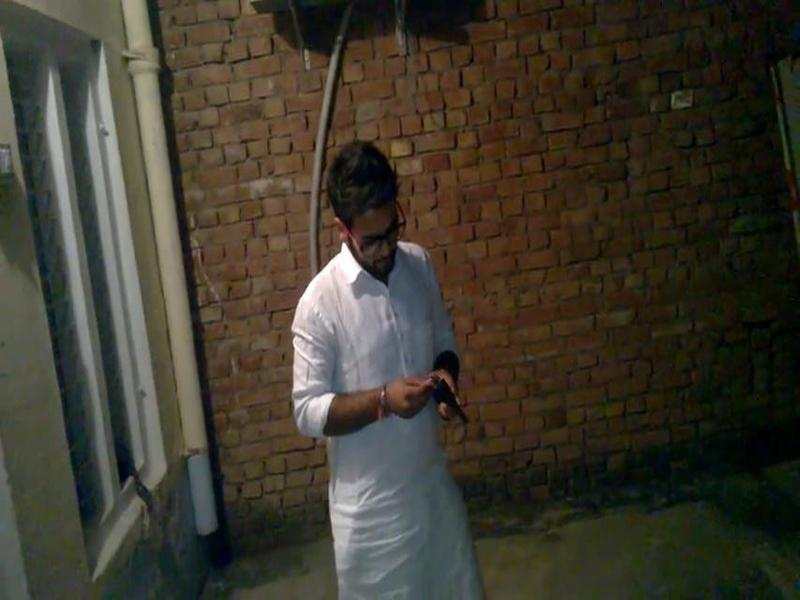Revolver: (416, 361, 477, 436)
